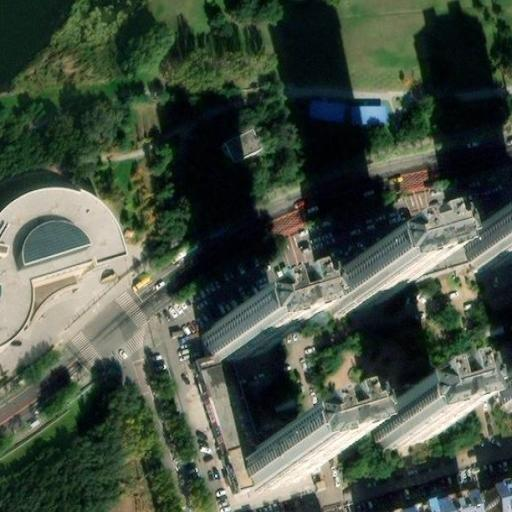building: (0, 205, 116, 353), (196, 354, 260, 486), (242, 430, 324, 487), (371, 395, 452, 450), (320, 265, 400, 320), (203, 308, 282, 363), (380, 237, 471, 284), (459, 218, 512, 272), (399, 494, 462, 512), (477, 481, 512, 512), (230, 131, 265, 161), (306, 101, 343, 122), (359, 103, 392, 124)
